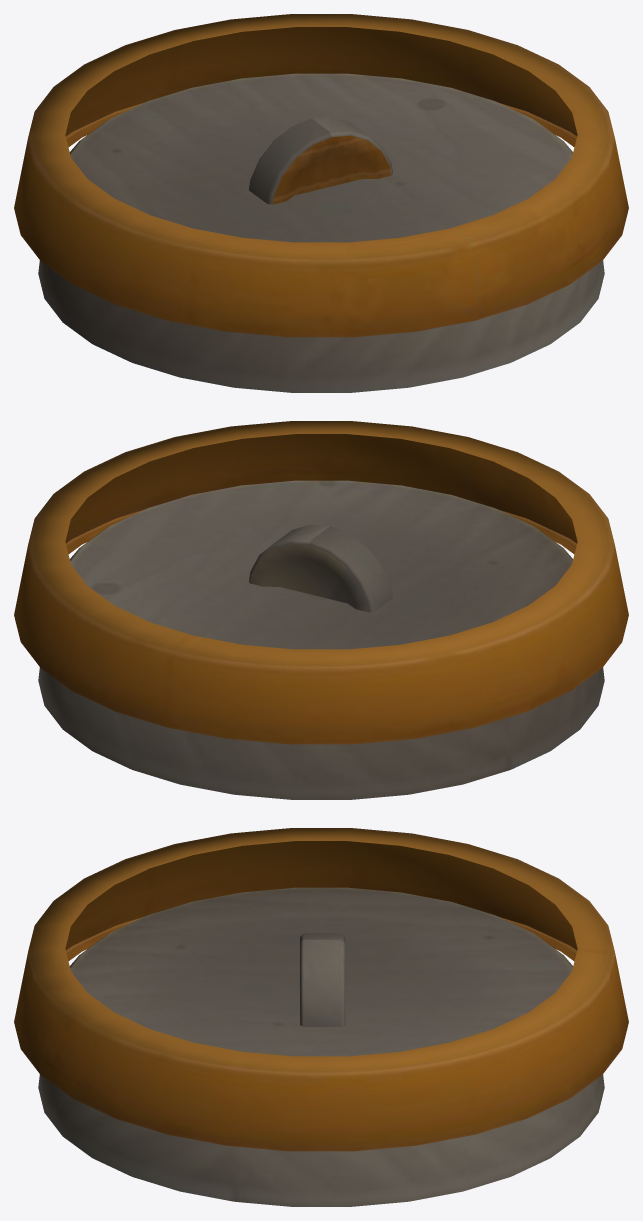
File: beast.glb
3 renders of one model, top to bottom at view 1: azimuth 30°, elevation 25°; view 2: azimuth 150°, elevation 25°; view 3: azimuth 270°, elevation 25°, orthographic.
Parts seen in each view (by area): view 1: Pedestal_Beast; view 2: Pedestal_Beast; view 3: Pedestal_Beast.
Boxes of the visible parts, <box> form: Pedestal_Beast: <box>14,14,628,392</box>; Pedestal_Beast: <box>14,421,628,799</box>; Pedestal_Beast: <box>14,828,628,1206</box>.
Bounding box in the file's own units: 2.83 × 0.7566 × 2.85.
1 material, 1 textured.
